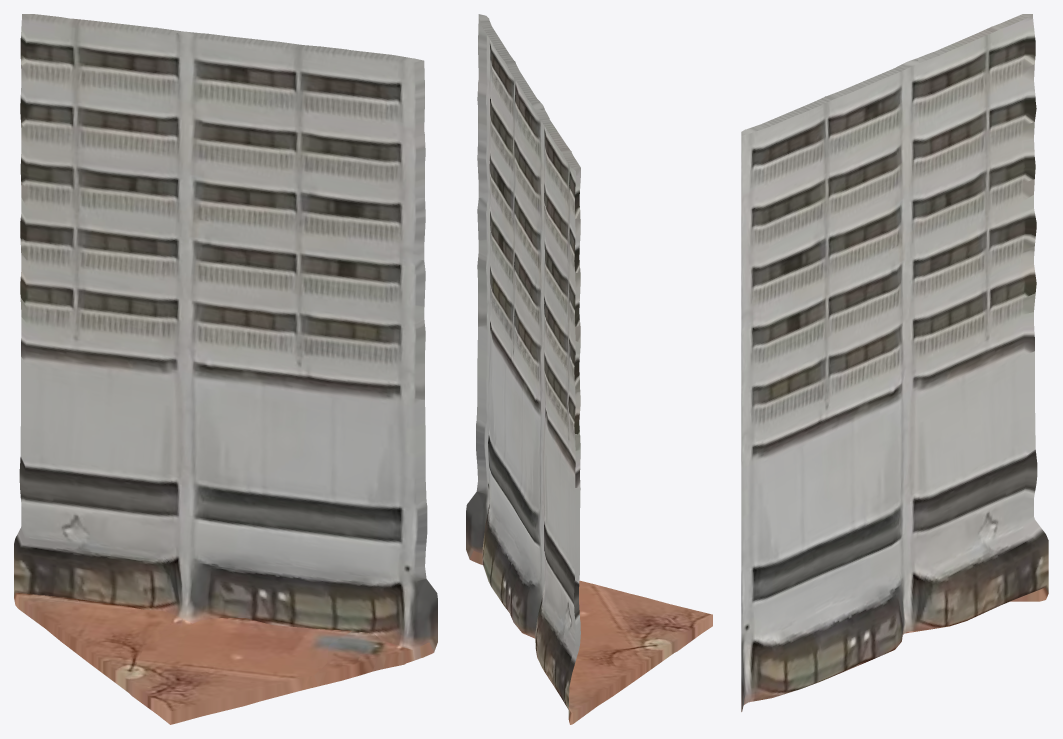
The model's file is z20-167785-405224-h0-yup-uvflip-v3-world.glb.
3 views of the same model, side by side, from view 1: azimuth 30°, elevation 25°; view 2: azimuth 150°, elevation 25°; view 3: azimuth 270°, elevation 25° (orthographic). The views are drawn at different scales.
Size of the model in its own units: 14.08 by 30.28 by 14.24.
1 material, 1 textured.
